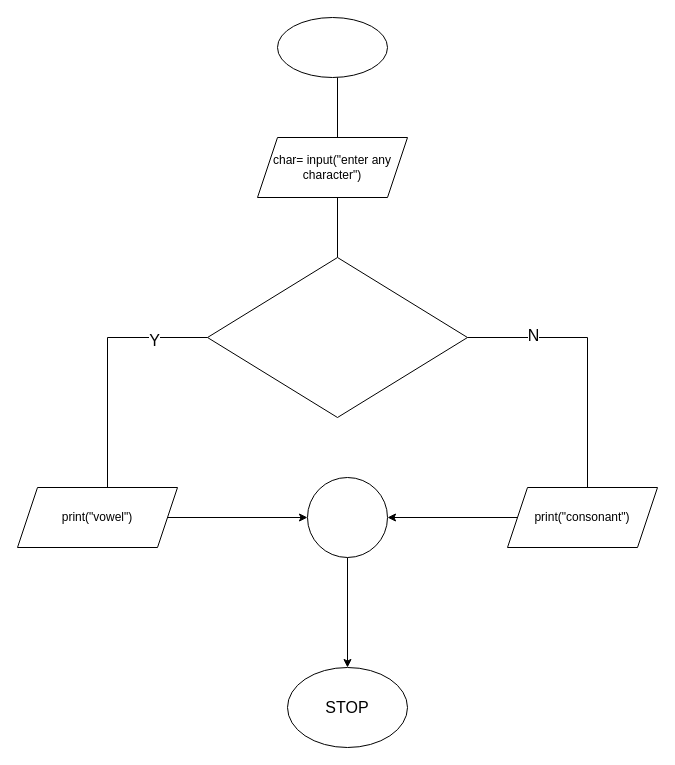
The diagram is 675 pixels wide and 765 high, and some of its shapes have lost their labels. The shapes that lost their labels are listed below. From the top down, each one's centre as x and y in pixels, then its label:
point (332, 47): START
point (337, 337): if char== "a" or "e" or "i" or "o" or "u" or "A" or "E" or "I" or "O" or "U":
